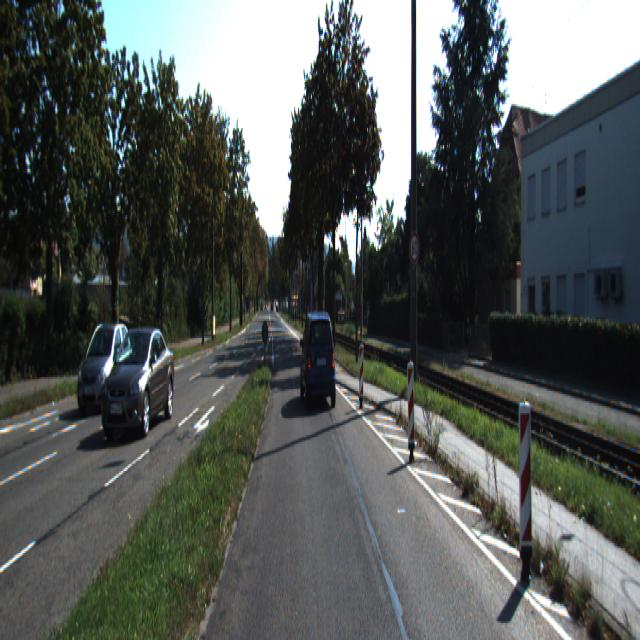Car: (101, 323, 175, 446), (78, 319, 133, 414), (299, 309, 337, 413)
DontCare: (270, 295, 278, 311)
